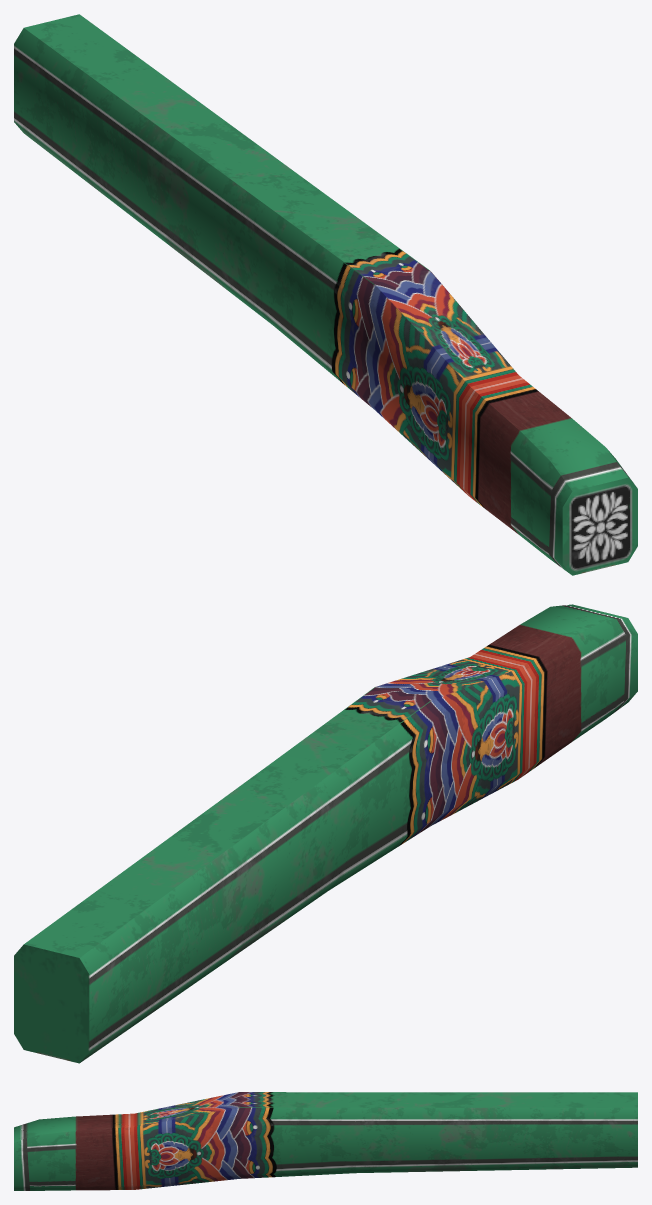
File: SM_Chunglyang01f.fbx
The picture shows the model from 3 angles, top to bottom: view 1: azimuth 30°, elevation 25°; view 2: azimuth 150°, elevation 25°; view 3: azimuth 270°, elevation 25°; orthographic projection. The views are drawn at different scales.
Visible parts, largest first — view 1: SM_Chunglyang01f; view 2: SM_Chunglyang01f; view 3: SM_Chunglyang01f.
Part boxes in pixels (bbox=[...]): SM_Chunglyang01f: bbox=[14, 14, 637, 575]; SM_Chunglyang01f: bbox=[14, 604, 637, 1063]; SM_Chunglyang01f: bbox=[14, 1092, 637, 1190].
Bounding box in the file's own units: 21.6 × 273 × 40.28.
Materials: 1 (1 with a texture image).
